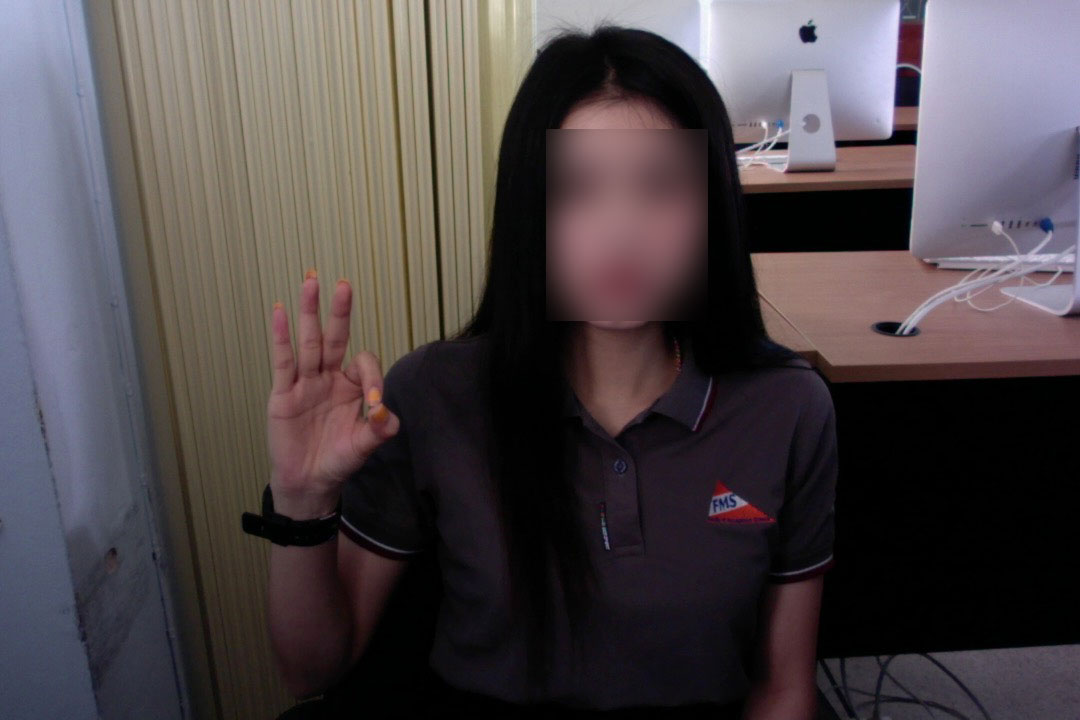for: (240, 254, 406, 529)
